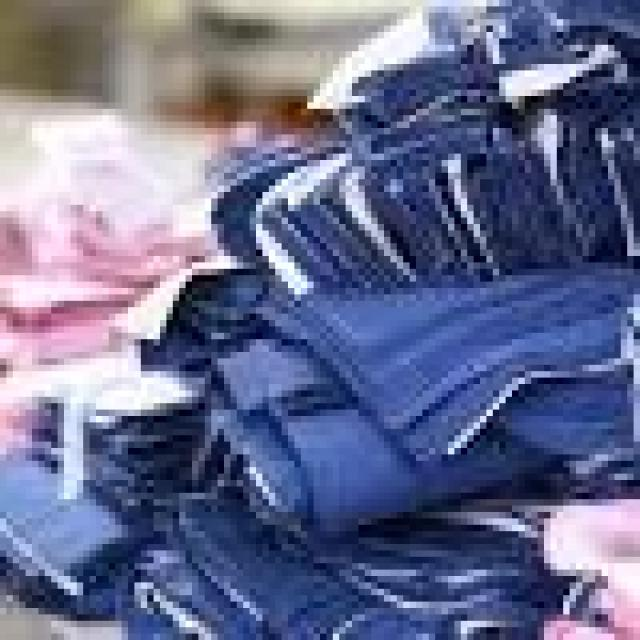Clothes -Biodegradable-: (0, 3, 640, 640)
